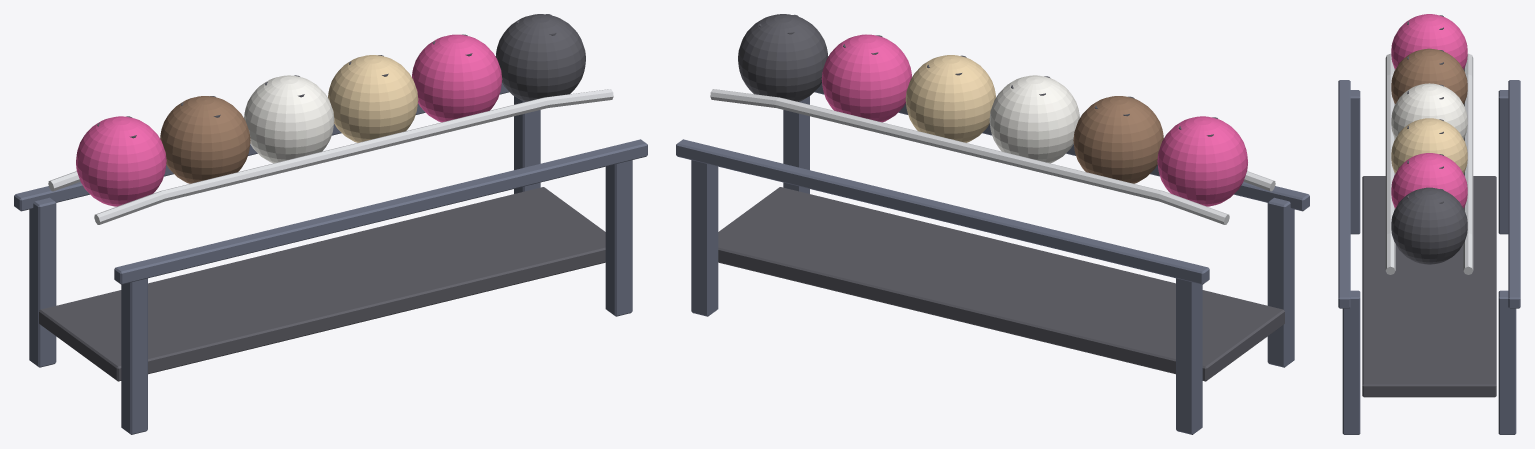
File: bowling-alley-and-pool-hall-ball-rack-with-balls-warm-0030c8a7__33845.glb
3 renders of one model, left to right at view 1: azimuth 30°, elevation 25°; view 2: azimuth 150°, elevation 25°; view 3: azimuth 270°, elevation 25°, orthographic. The views are drawn at different scales.
Parts seen in each view (by area): view 1: ball-rack-with-balls-warm; view 2: ball-rack-with-balls-warm; view 3: ball-rack-with-balls-warm.
Part boxes in pixels (left/top/right/bottom): ball-rack-with-balls-warm: left=14, top=14, right=647, bottom=434; ball-rack-with-balls-warm: left=676, top=14, right=1309, bottom=434; ball-rack-with-balls-warm: left=1338, top=14, right=1520, bottom=434.
Size of the model in its own units: 1.46 by 0.7076 by 0.5149.
